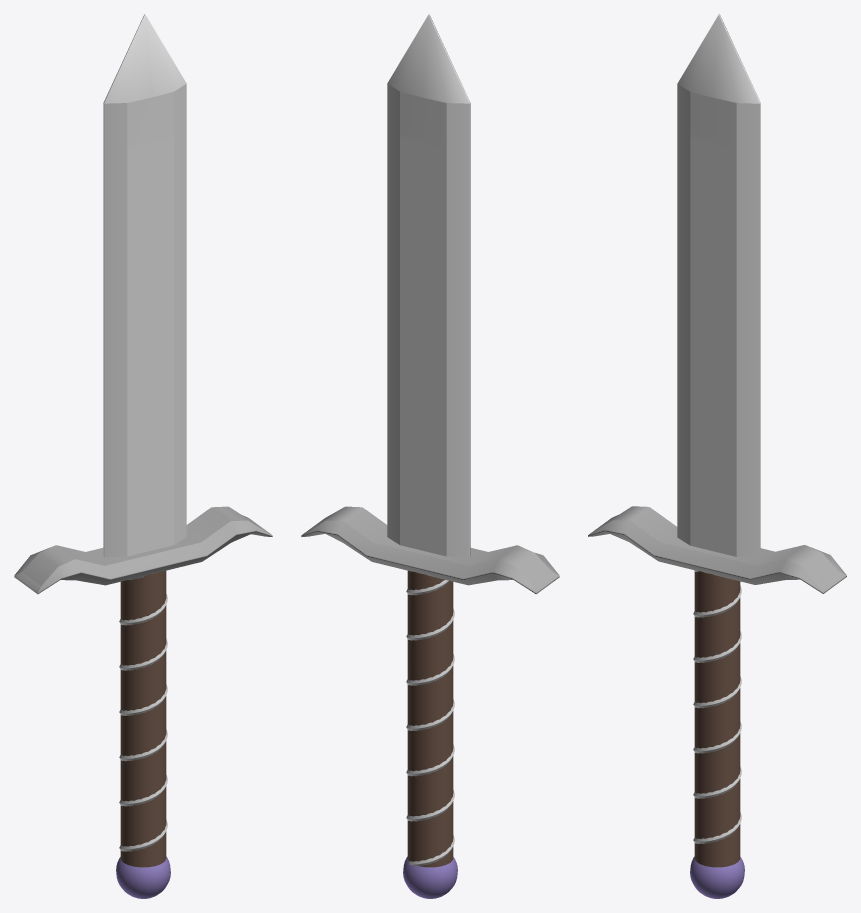
File: sword.fbx
3 renders of one model, left to right at view 1: azimuth 30°, elevation 25°; view 2: azimuth 150°, elevation 25°; view 3: azimuth 330°, elevation 25°, orthographic.
Visible parts, largest first — view 1: pCube2; view 2: pCube2; view 3: pCube2.
Boxes of the visible parts, box(x1,y1,x2,y2) form: pCube2: box(14, 14, 272, 898); pCube2: box(301, 14, 559, 898); pCube2: box(588, 14, 846, 898).
Size of the model in its own units: 4.9 by 17.58 by 1.11.
